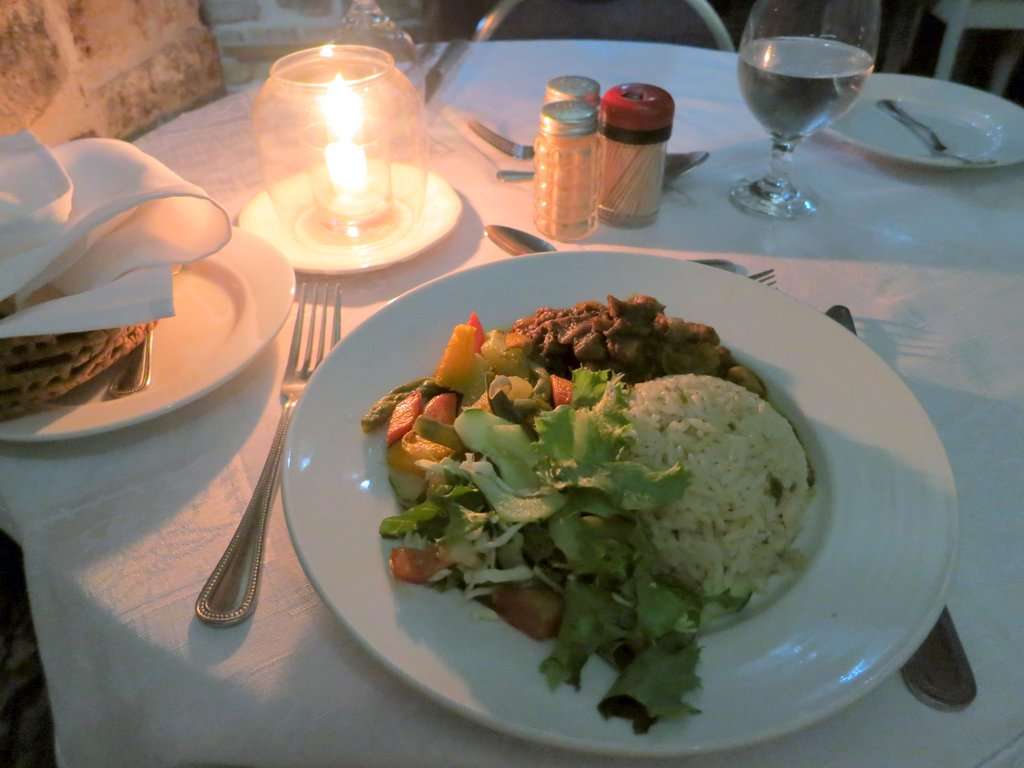salad: (362, 291, 822, 736)
